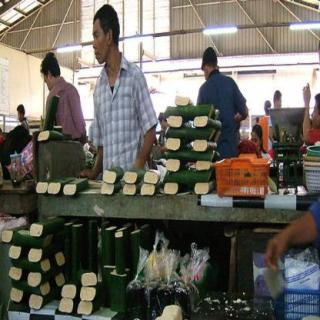Tempe: (164, 94, 217, 194), (101, 165, 161, 199)
